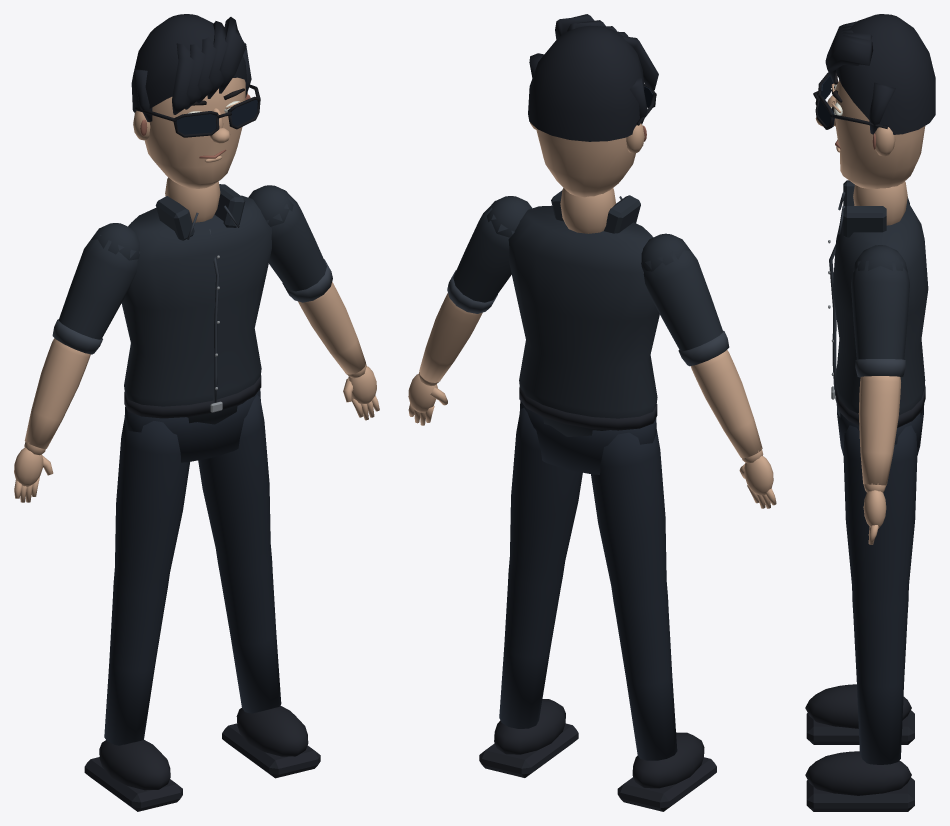
The model's file is dance-daisuke-for-mixamo.fbx.
The picture shows the model from 3 angles, left to right: view 1: azimuth 30°, elevation 25°; view 2: azimuth 150°, elevation 25°; view 3: azimuth 270°, elevation 25°; orthographic projection.
Parts seen in each view (by area): view 1: DanceDaisuke_Mesh; view 2: DanceDaisuke_Mesh; view 3: DanceDaisuke_Mesh.
Boxes of the visible parts, x1,y1,x2,y2 form: DanceDaisuke_Mesh: [14, 14, 379, 811]; DanceDaisuke_Mesh: [408, 14, 776, 811]; DanceDaisuke_Mesh: [805, 14, 935, 811].
Size of the model in its own units: 92.17 by 181 by 28.62.
